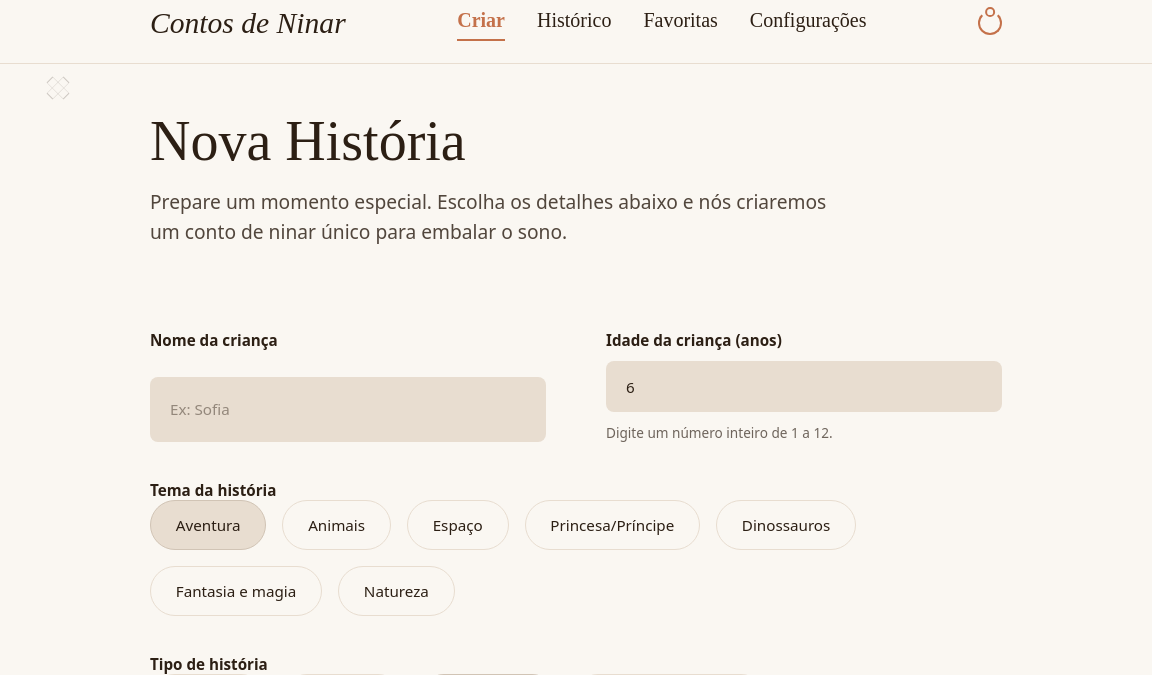
Scenario: TabShell › shows result even when persistence fails
This screenshot has width=1152, height=675.
Step 1. Type "Luna" into the field labelled "Nome da criança" → (348, 409), box [150,377,546,442]
(page scrolled)
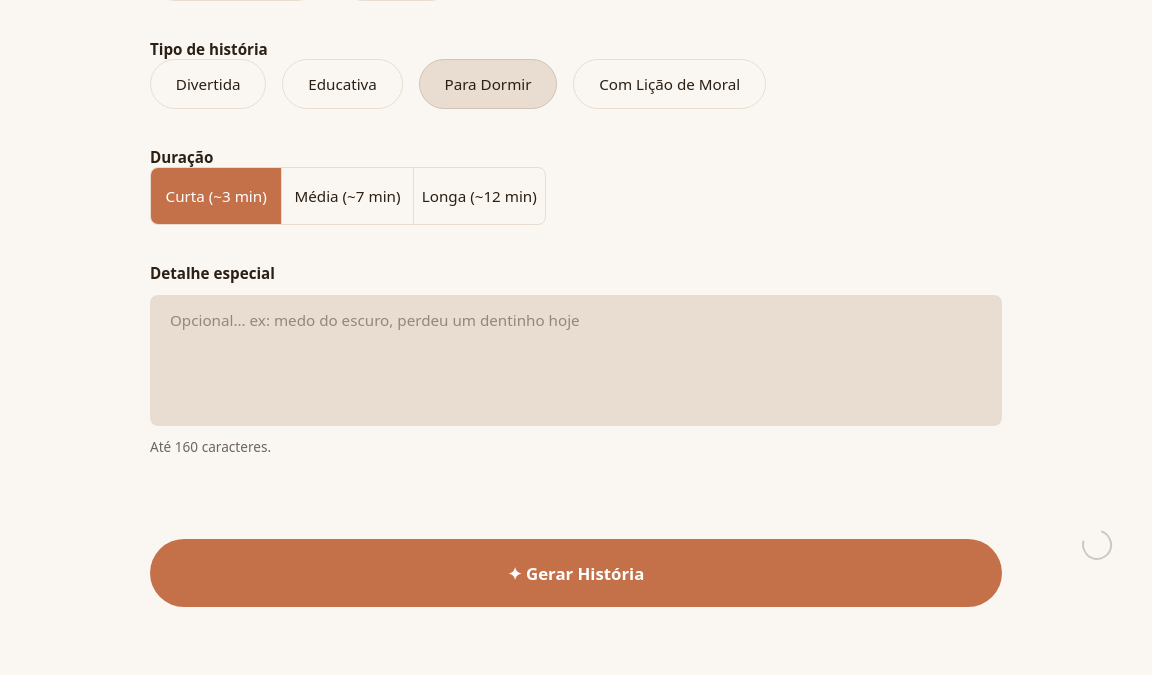
Step 2. Click the button "✦ Gerar História" → (576, 573), box [150,539,1002,607]
(page scrolled)
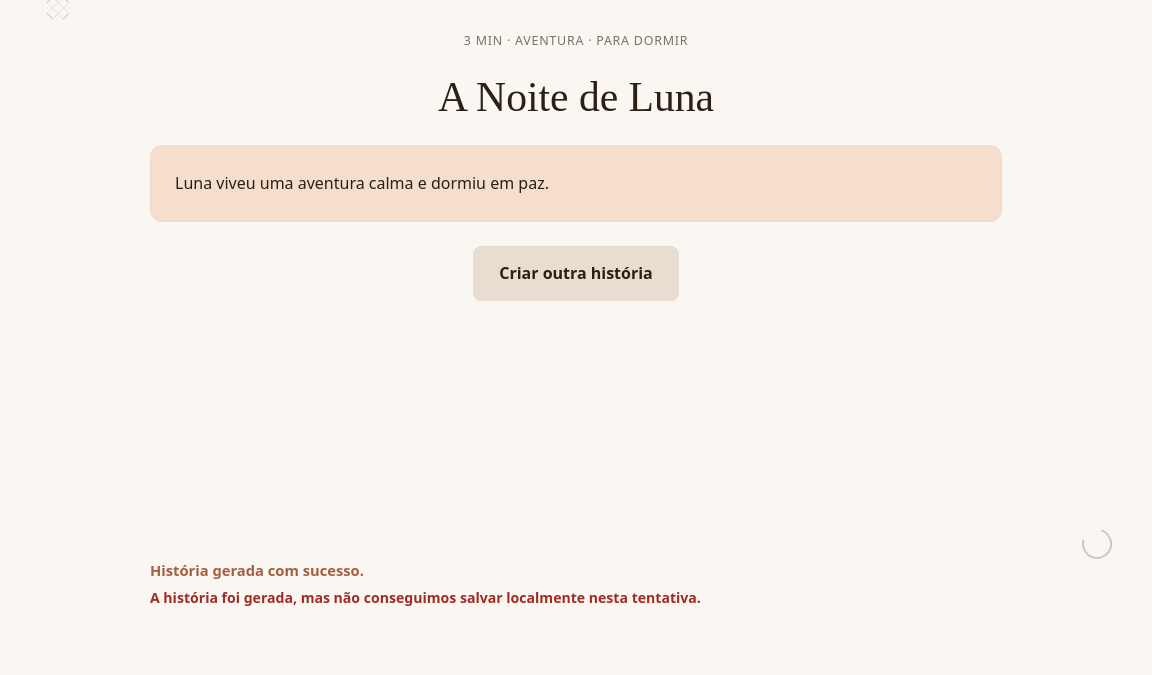
Now the heading "A Noite de Luna" is shown, box [438,73,714,121]
Now the text "A história foi gerada, mas não conseguimos salvar localmente nesta tentativa." is shown, box [150,588,701,607]
